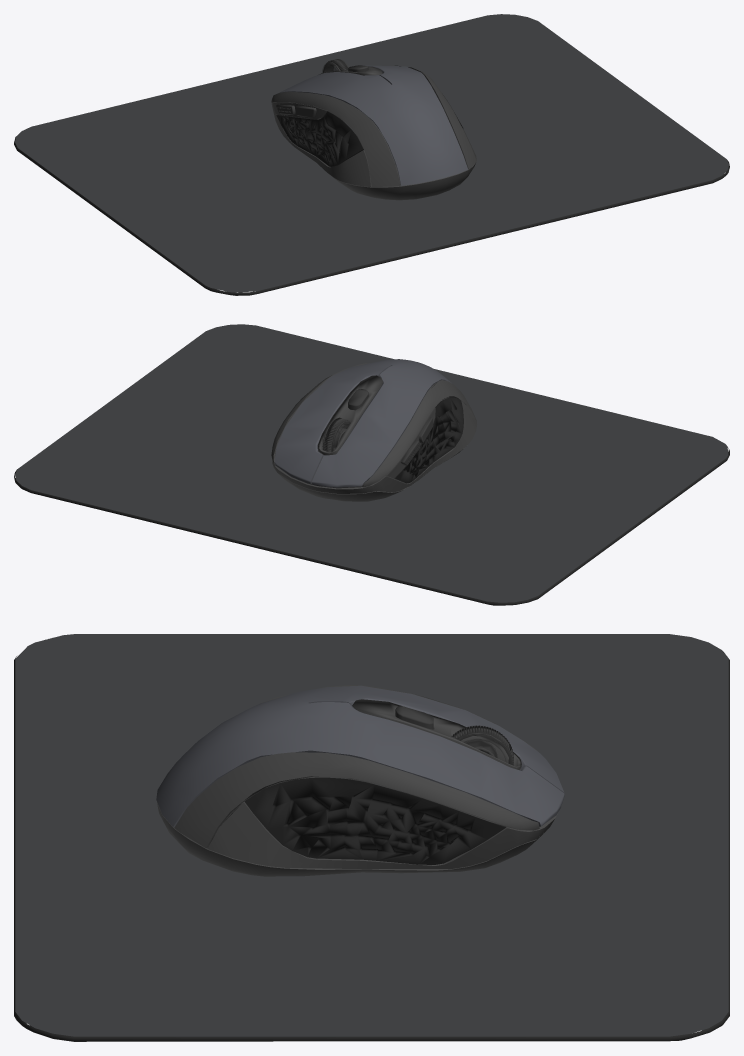
The model's file is mouse.glb.
The picture shows the model from 3 angles, top to bottom: view 1: azimuth 30°, elevation 25°; view 2: azimuth 150°, elevation 25°; view 3: azimuth 270°, elevation 25°; orthographic projection. The views are drawn at different scales.
Parts seen in each view (by area): view 1: sm_computer_mouse_office_b01_01; view 2: sm_computer_mouse_office_b01_01; view 3: sm_computer_mouse_office_b01_01.
Boxes of the visible parts, x1=… form: sm_computer_mouse_office_b01_01: x1=14, y1=14, x2=729, y2=295; sm_computer_mouse_office_b01_01: x1=14, y1=324, x2=729, y2=605; sm_computer_mouse_office_b01_01: x1=14, y1=634, x2=729, y2=1041.
Bounding box in the file's own units: 0.2535 × 0.0408 × 0.1901.
7 materials, 1 textured.
